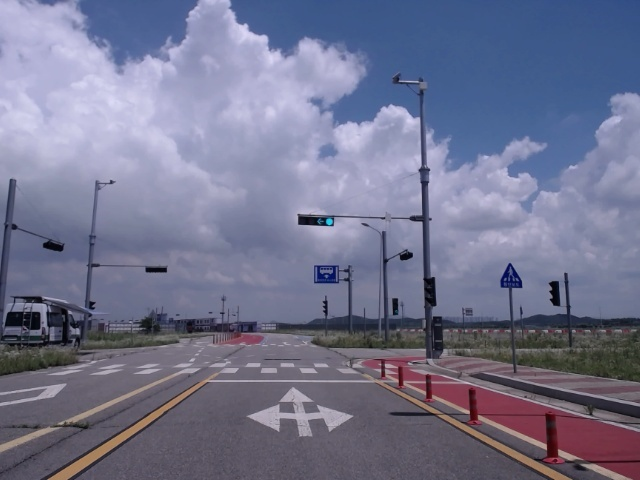all_green_4: (299, 215, 336, 228)
